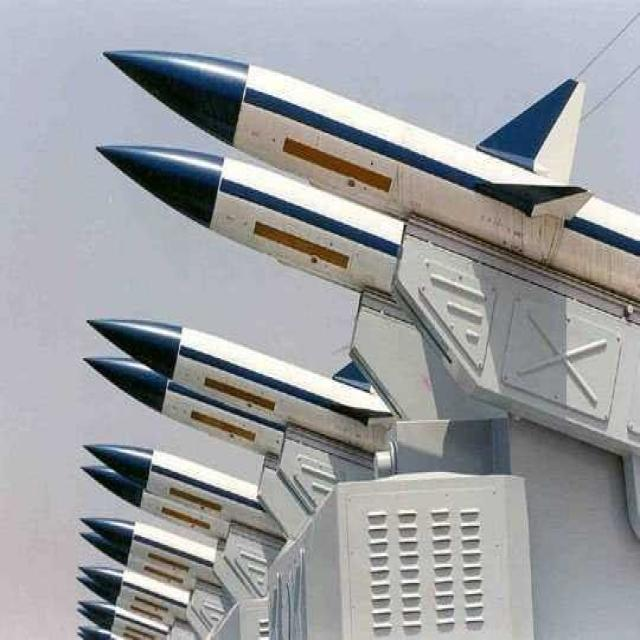missile: (104, 42, 640, 302), (102, 152, 403, 298)
